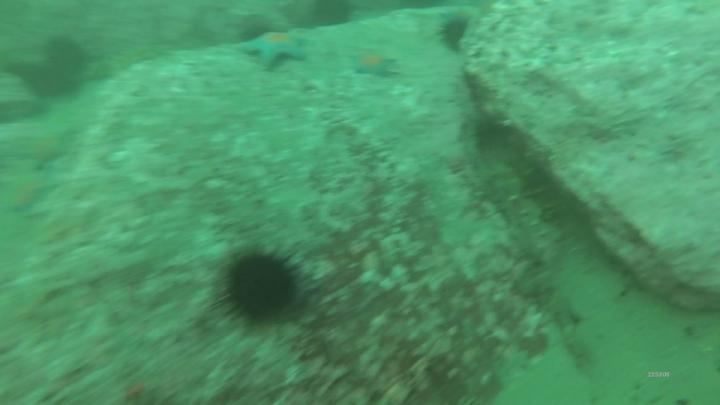echinus: (224, 253, 301, 321), (39, 38, 91, 72), (440, 17, 472, 50)
holothurian: (498, 161, 563, 244), (21, 127, 72, 168)
starfish: (247, 28, 309, 69), (354, 48, 395, 75)
